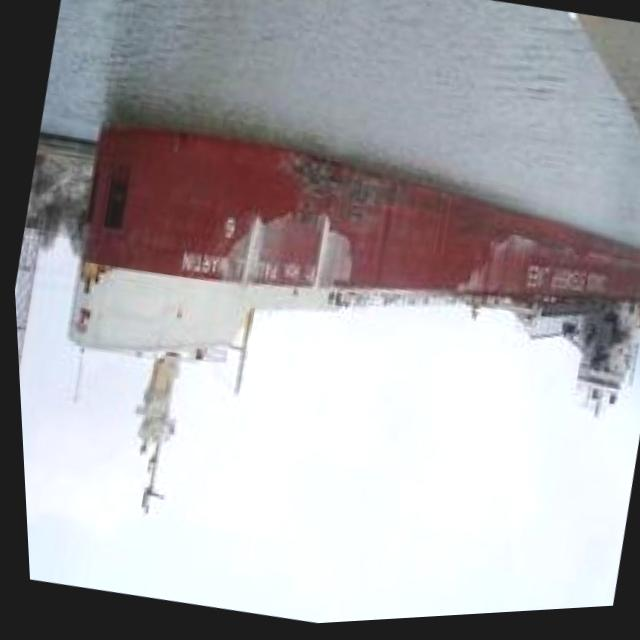ship2: (63, 124, 640, 514)
